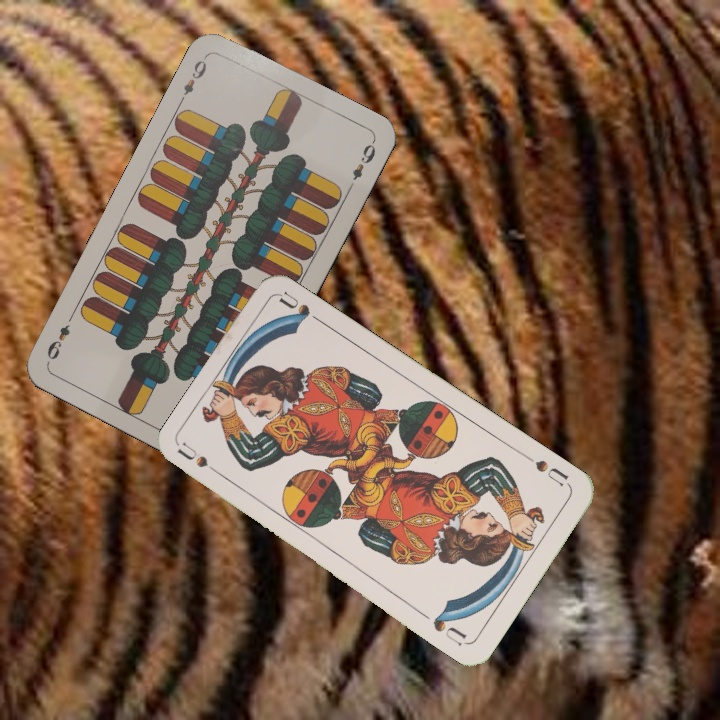E9: (175, 51, 210, 106)
SU: (175, 440, 229, 482), (520, 450, 571, 489)
